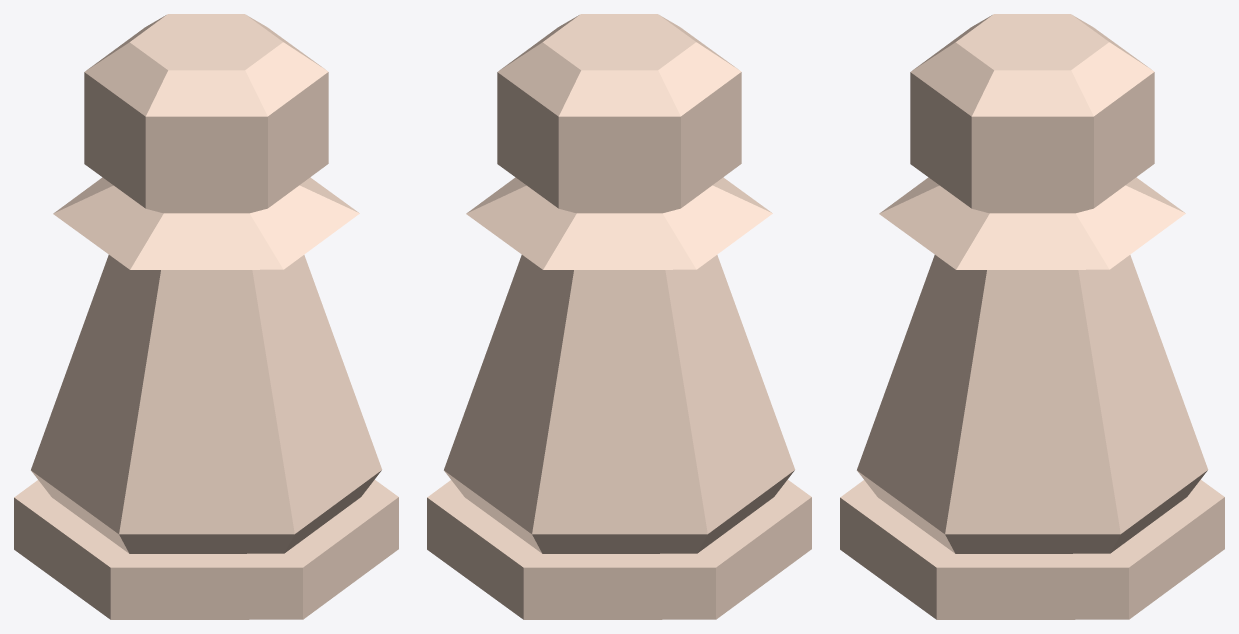
Rendered from chessPieces_Chess_Pawn_White.fbx.
3 renders of one model, left to right at view 1: azimuth 30°, elevation 25°; view 2: azimuth 150°, elevation 25°; view 3: azimuth 270°, elevation 25°, orthographic.
Parts seen in each view (by area): view 1: Chess_Pawn_White; view 2: Chess_Pawn_White; view 3: Chess_Pawn_White.
Part boxes in pixels (x1,y1,x2,y2): Chess_Pawn_White: (14,14,398,619); Chess_Pawn_White: (427,14,811,619); Chess_Pawn_White: (840,14,1224,619).
Bounding box in the file's own units: 198 × 332 × 228.
